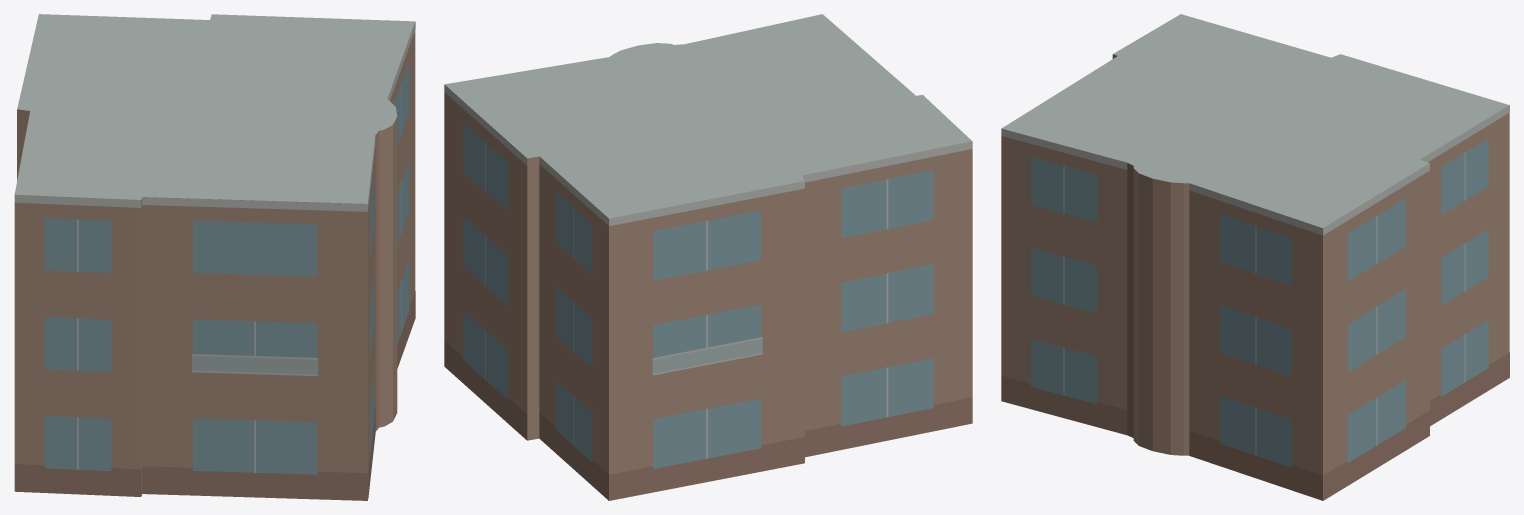
The model's file is survey-upis-32934526.glb.
The picture shows the model from 3 angles, left to right: view 1: azimuth 30°, elevation 25°; view 2: azimuth 150°, elevation 25°; view 3: azimuth 270°, elevation 25°; orthographic projection. The views are drawn at different scales.
Parts seen in each view (by area): view 1: survey-upis-32934526.tmp; view 2: survey-upis-32934526.tmp; view 3: survey-upis-32934526.tmp.
Boxes of the visible parts, bbox=[...] form: survey-upis-32934526.tmp: bbox=[14, 14, 415, 500]; survey-upis-32934526.tmp: bbox=[444, 14, 972, 500]; survey-upis-32934526.tmp: bbox=[1001, 14, 1509, 500].
Size of the model in its own units: 15.43 by 9.15 by 15.48.
